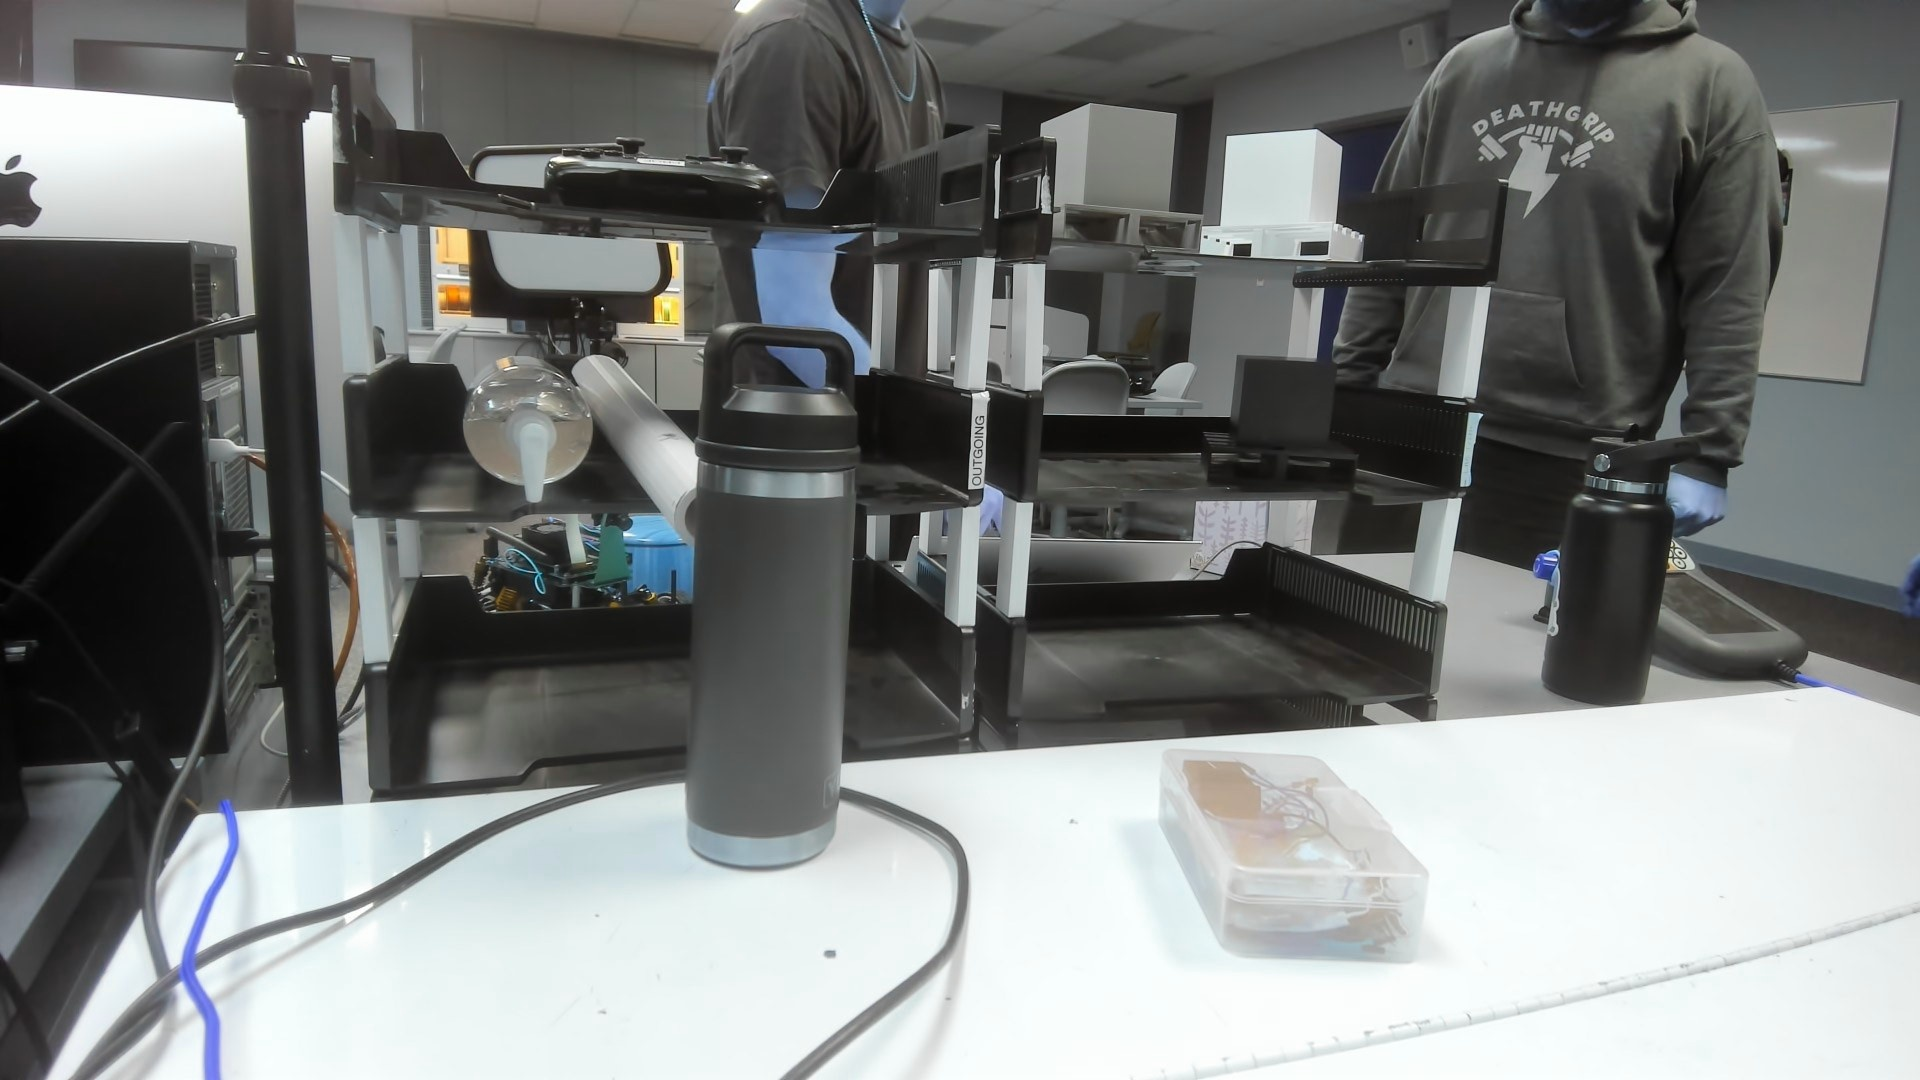black pallet: (1195, 351, 1360, 504)
grey pallet: (1030, 94, 1209, 262)
white pallet: (1196, 123, 1369, 273)
